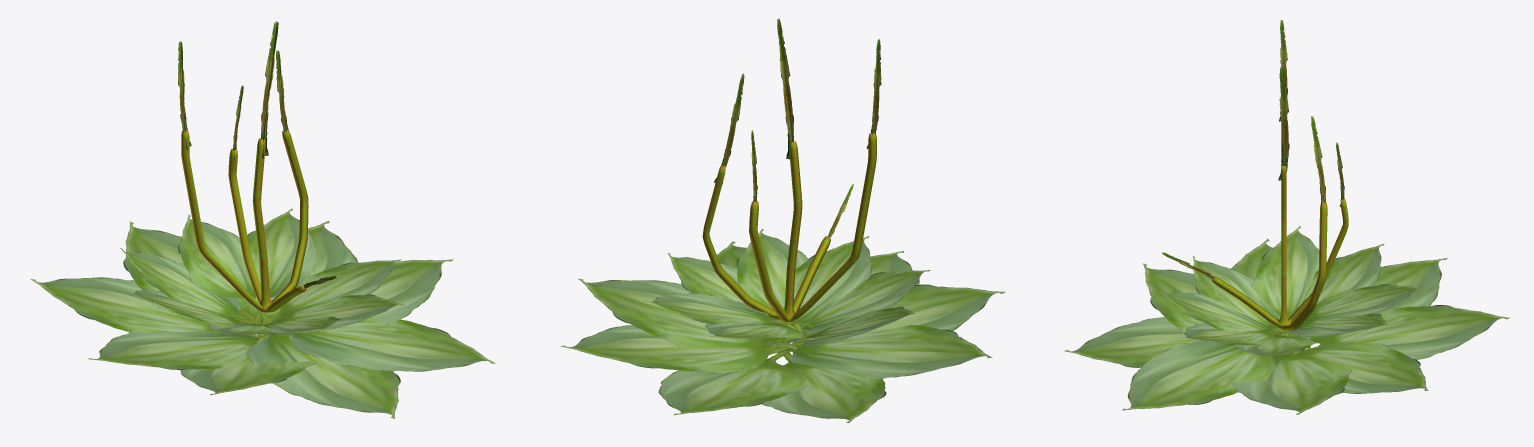
Rendered from tanchagem.fbx.
The picture shows the model from 3 angles, left to right: view 1: azimuth 30°, elevation 25°; view 2: azimuth 150°, elevation 25°; view 3: azimuth 270°, elevation 25°; orthographic projection. The views are drawn at different scales.
Parts seen in each view (by area): view 1: tanchagemFolha, Cube, tanchagemFlor; view 2: tanchagemFolha, Cube, tanchagemFlor; view 3: tanchagemFolha, Cube, tanchagemFlor.
Boxes of the visible parts, bbox=[...] form: tanchagemFolha: bbox=[30, 208, 495, 418]; Cube: bbox=[181, 130, 308, 312]; tanchagemFlor: bbox=[178, 21, 336, 288]; tanchagemFolha: bbox=[560, 228, 1005, 422]; Cube: bbox=[702, 132, 876, 322]; tanchagemFlor: bbox=[714, 18, 881, 237]; tanchagemFolha: bbox=[1064, 226, 1509, 414]; Cube: bbox=[1212, 123, 1348, 330]; tanchagemFlor: bbox=[1162, 20, 1344, 279].
Bounding box in the file's own units: 44.5 × 35.03 × 48.79.
